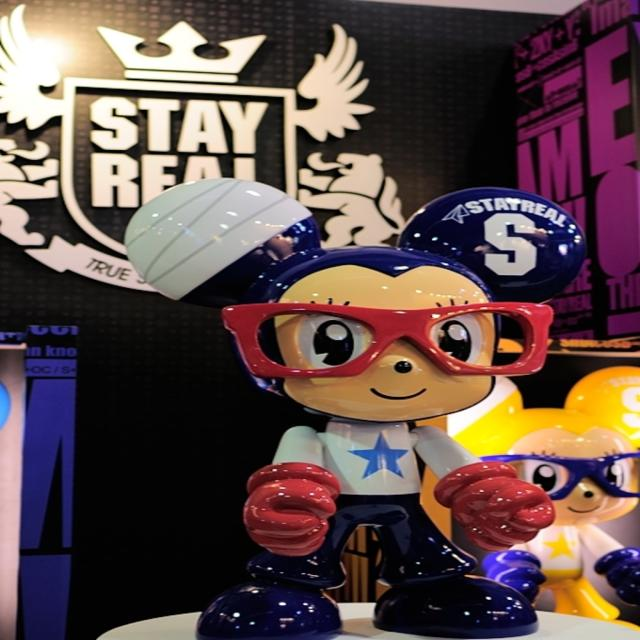Toy: (104, 181, 584, 630)
